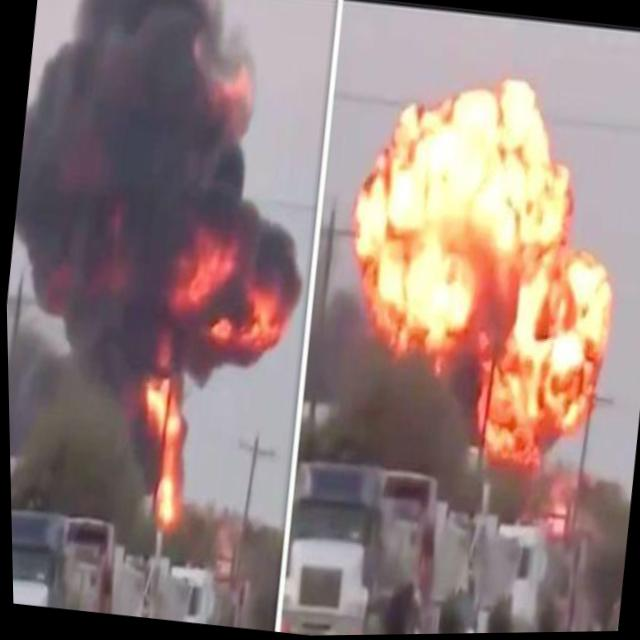fire: (312, 45, 640, 500), (110, 196, 309, 554)
